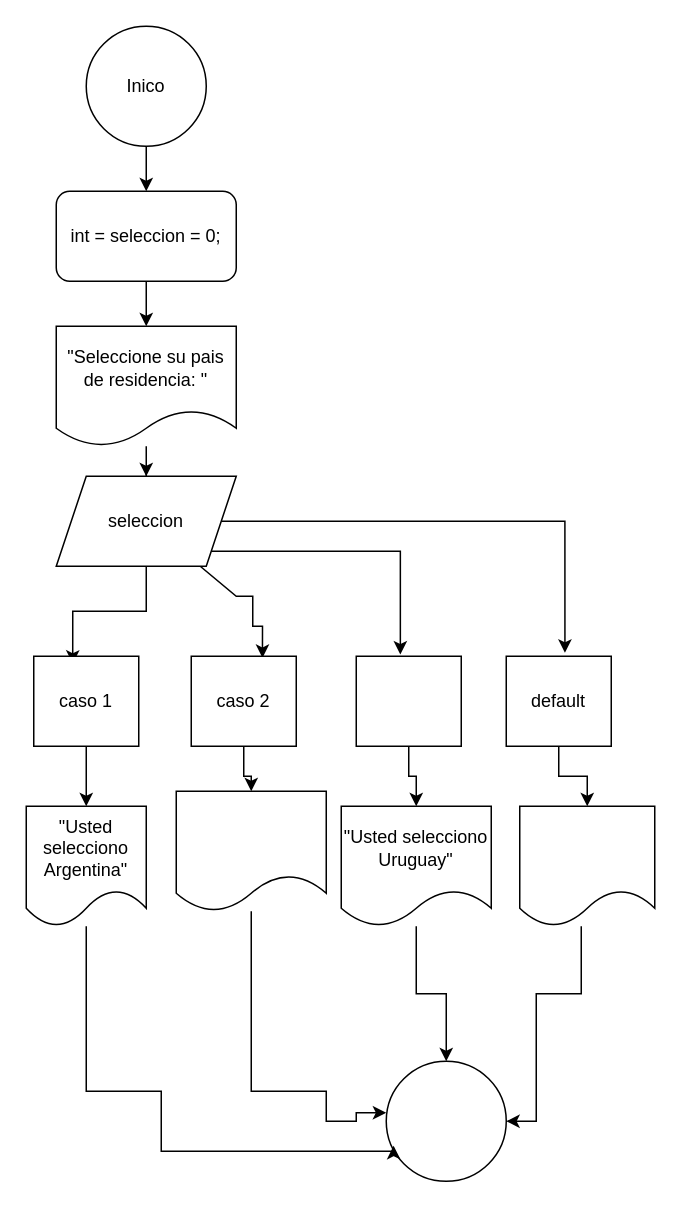
Some shapes in this 681 by 1208 pixel diagram are drawn without their labels. The box of each missing label's shape, as (x1, y1, x2, y2) in pixels:
"Usted selecciono Brasil": (175, 790, 326, 911)
caso 3: (355, 655, 461, 746)
Fin: (385, 1060, 506, 1181)
Usted no ha seleccionado ningún país: (518, 805, 655, 926)
